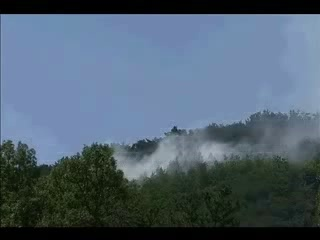smoke: (111, 123, 267, 183), (268, 16, 318, 164)
